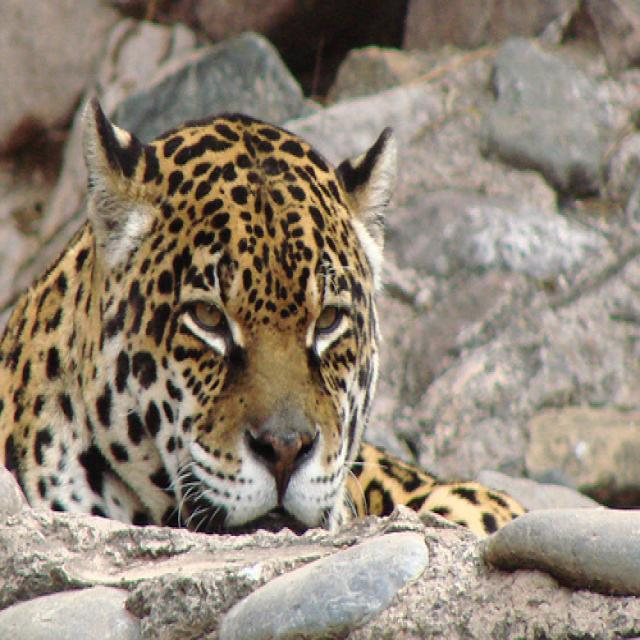Leopard: (0, 90, 526, 536)
